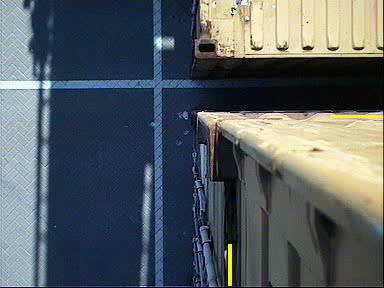groundmarker_2: (166, 160, 223, 238)
